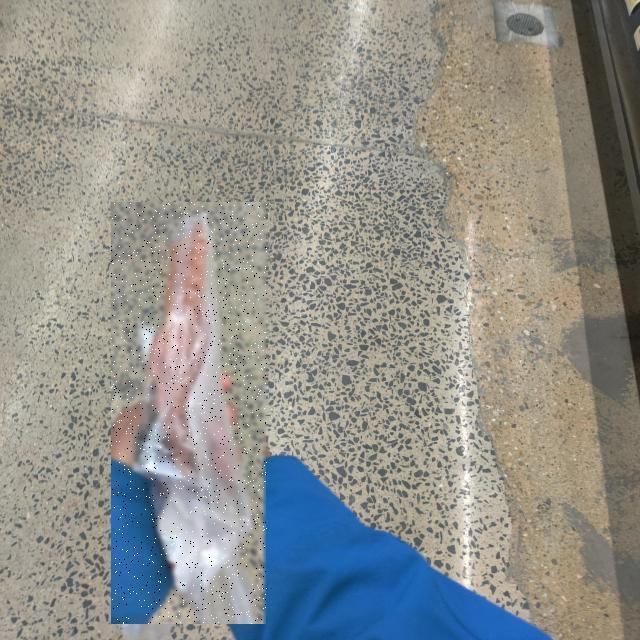Meat: (112, 202, 268, 624)
